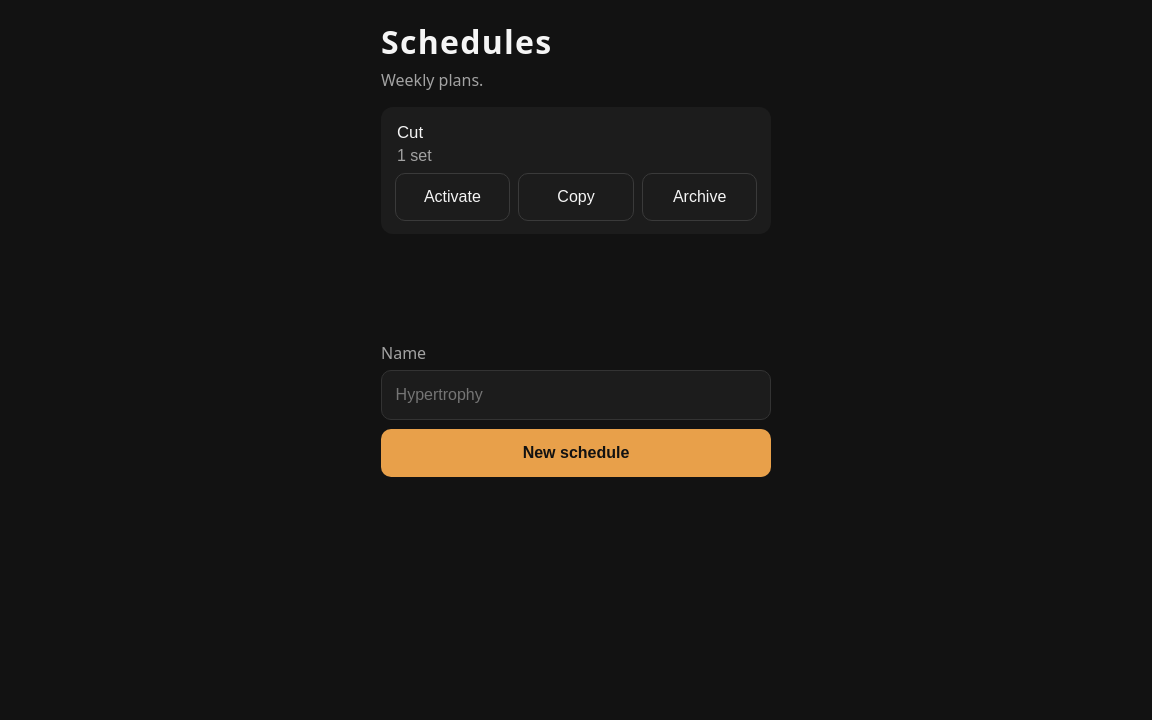
Test: ScheduleListPage › surfaces activate and archive failures
Click the button "Activate". click: click(452, 197)
box: [395,173,510,221]
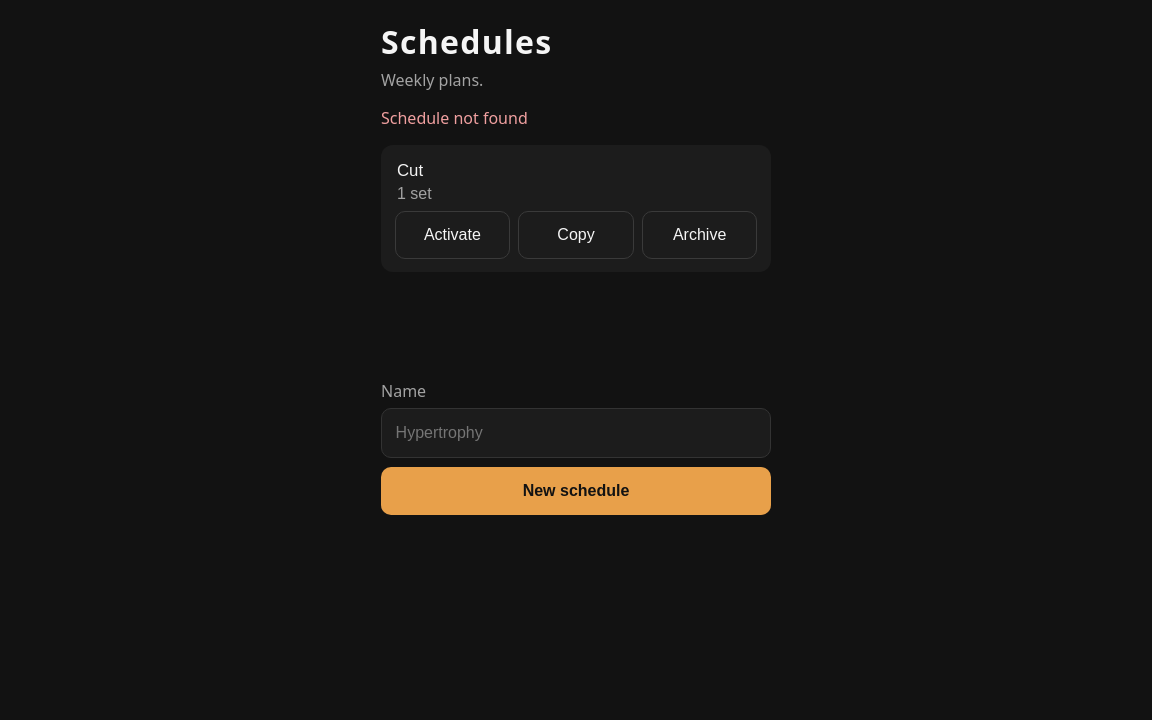
Now the message reads "Schedule not found", box [381,107,528,129]
Click the button "Archive". click: click(700, 235)
box: [642,211,757,259]
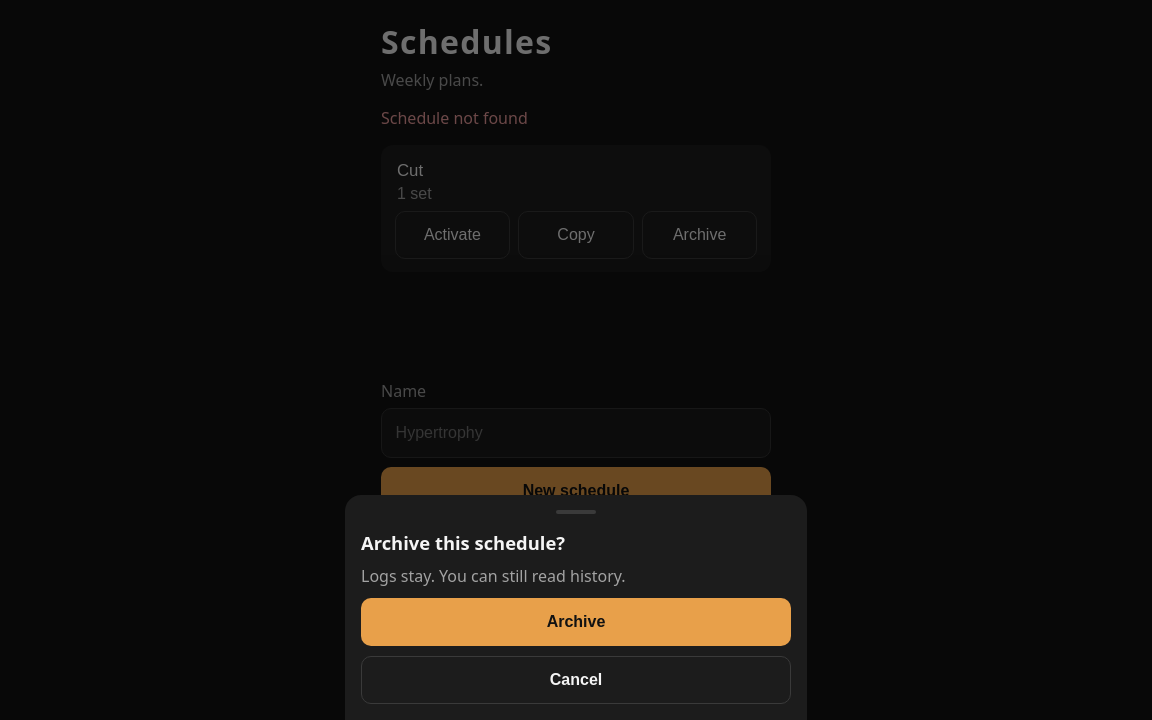
Click the button "Archive". click: click(576, 622)
box: [361,598,791,646]
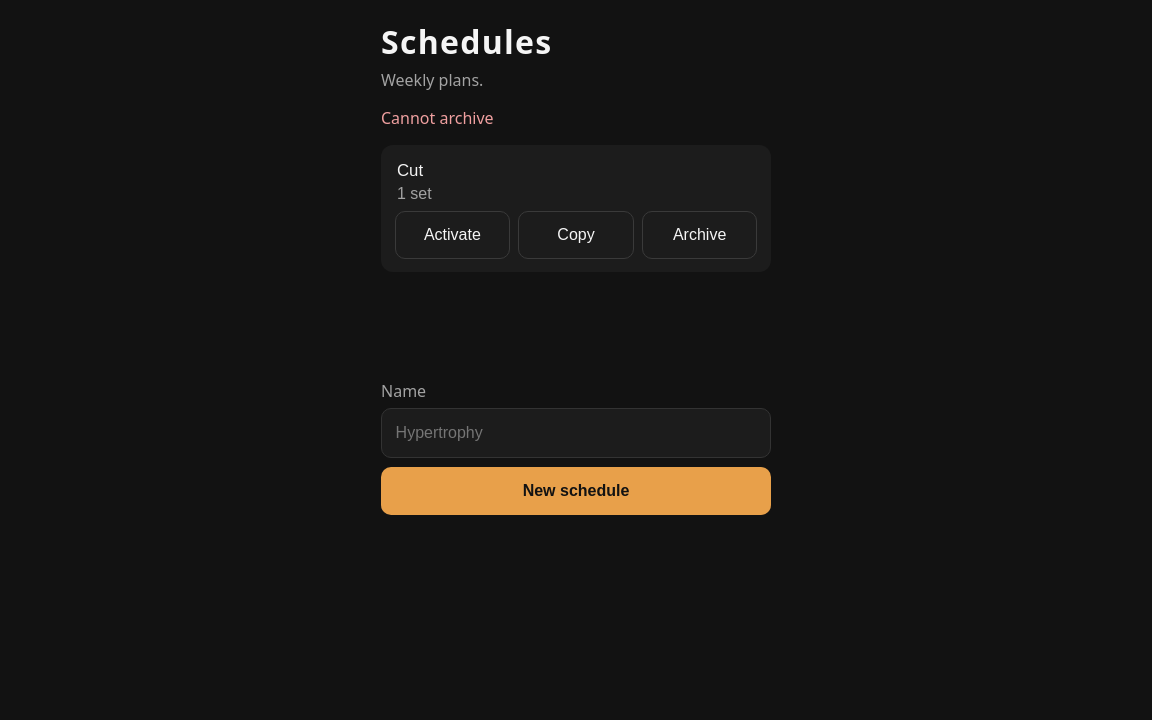
Now the message reads "Cannot archive", box [381,107,494,129]
